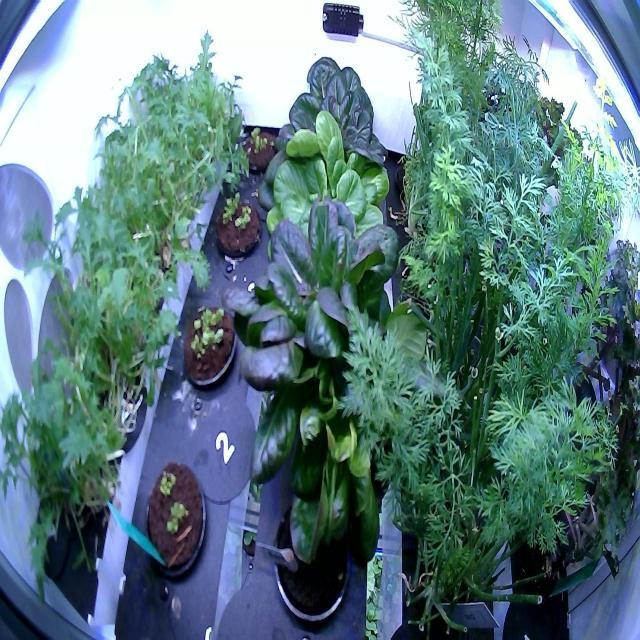Ready: (237, 185, 428, 578), (254, 46, 404, 192)
germination: (139, 456, 213, 586), (180, 294, 240, 399), (212, 184, 262, 267), (233, 114, 284, 184)
pod: (268, 486, 359, 630)
young: (256, 102, 399, 304)
